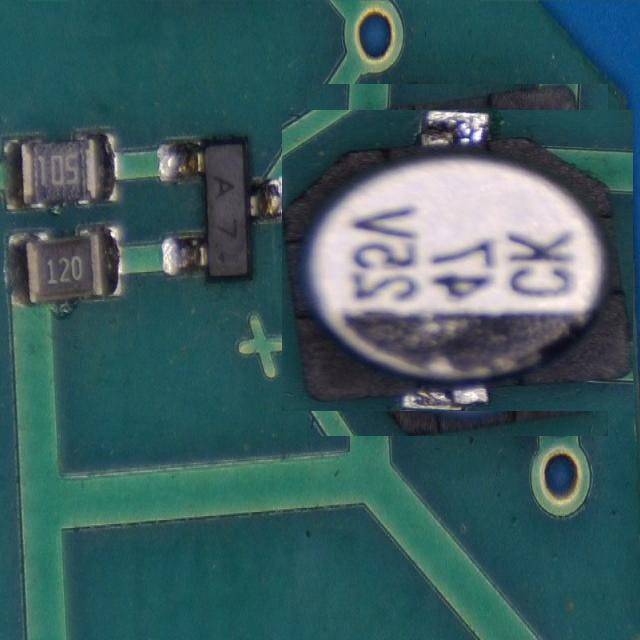Incorrect_installation: (282, 111, 632, 411)
